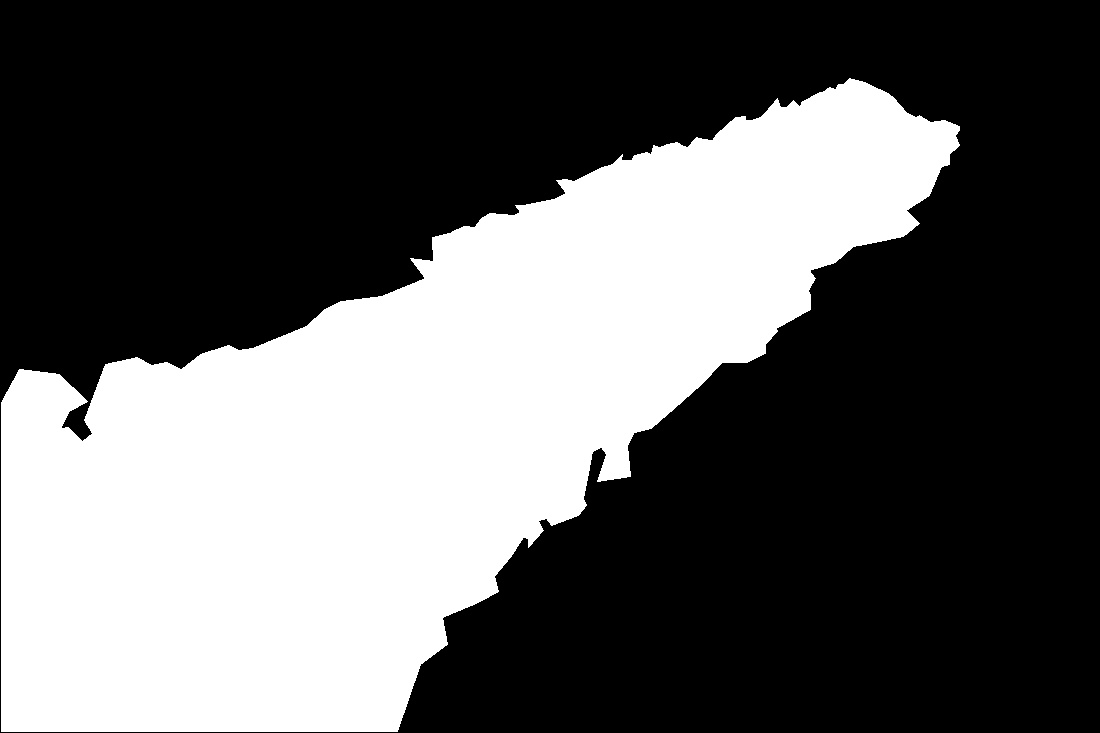Fire: (469, 75, 961, 418)
